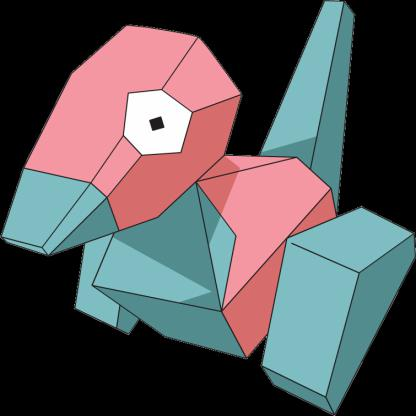Porygon: (21, 7, 416, 411)
